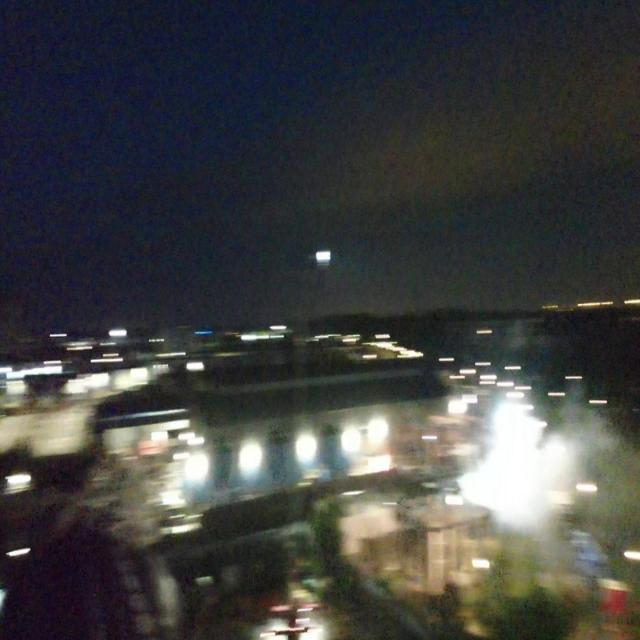Smoke: (457, 380, 640, 546)
